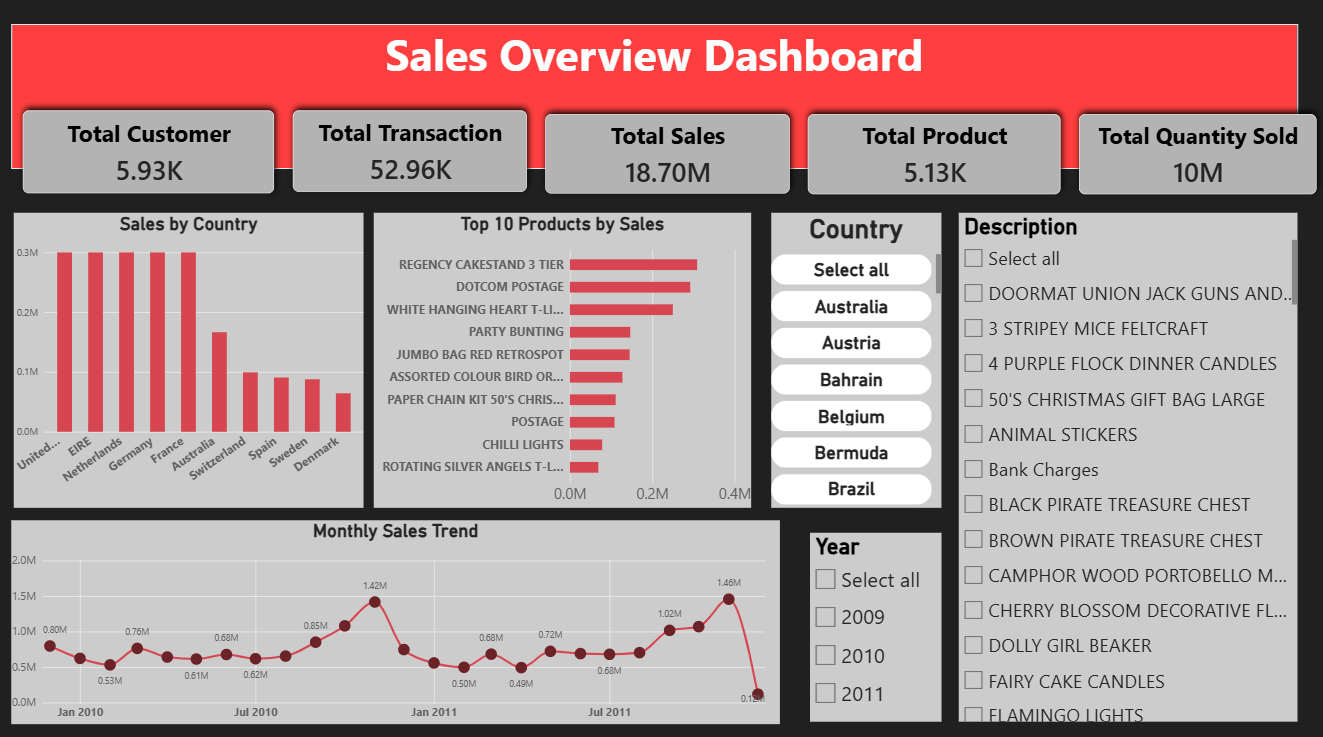

What the dashboard file says about the page in this screenshot:
{"tool":"powerbi","page":{"name":"Page 1","canvas":[1920,1080],"ordinal":0},"visuals":[{"type":"lineChart","title":"Monthly Sales Trend","fields":{"Category":["Retail_order_cleaned.YearMonth.Variation.Date Hierarchy.Year","Retail_order_cleaned.YearMonth.Variation.Date Hierarchy.Quarter","Retail_order_cleaned.YearMonth.Variation.Date Hierarchy.Month","Retail_order_cleaned.YearMonth.Variation.Date Hierarchy.Day"],"Y":["Sum(Retail_order_cleaned.Sales)"]},"box":[16.3,761.9,1112.9,295],"z":5000},{"type":"barChart","title":"Top 10 Products by Sales","fields":{"Category":["Retail_order_cleaned.Description"],"Y":["Sum(Retail_order_cleaned.Sales)"]},"box":[541.1,316.7,546.5,427.1],"z":6000},{"type":"clusteredColumnChart","title":"Sales by Country","fields":{"Category":["Retail_order_cleaned.Country"],"Y":["Sum(Retail_order_cleaned.Sales)"]},"box":[19.9,316.7,506.7,427.1],"z":7000},{"type":"shape","title":"Sales Overview Dashboard","box":[16.3,43.4,1862.1,209.9],"z":8000},{"type":"cardVisual","fields":{"Data":["Count(Retail_order_cleaned.Customer ID)"]},"box":[19.9,155.6,390.9,146.6],"z":8500},{"type":"cardVisual","fields":{"Data":["Count(Retail_order_cleaned.Invoice)"]},"box":[410.8,155.6,365.6,144.8],"z":9000},{"type":"cardVisual","fields":{"Data":["Count(Retail_order_cleaned.StockCode)"]},"box":[1156.4,161.1,392.7,143],"z":9500},{"type":"cardVisual","fields":{"Data":["Sum(Retail_order_cleaned.Quantity)"]},"box":[1549.1,161.1,371,143],"z":10000},{"type":"cardVisual","fields":{"Data":["Sum(Retail_order_cleaned.Sales)"]},"box":[776.3,161.1,380,141.2],"z":10500},{"type":"slicer","fields":{"Values":["Retail_order_cleaned.Year"]},"box":[1172.7,780,190,273.3],"z":10501},{"type":"advancedSlicerVisual","fields":{"Values":["Retail_order_cleaned.Country"]},"box":[1116.6,316.7,246.1,427.1],"z":10502},{"type":"slicer","fields":{"Values":["Retail_order_cleaned.Description"]},"box":[1388,316.7,490.4,736.5],"z":10503}]}

Visuals, with their boxes in screenshot pixels (x1, y1, x2, y2), scaled from the page's 1920x1080 canvas onto the 1323x737 screenshot:
"Monthly Sales Trend" lineChart: 11,520,778,721
"Top 10 Products by Sales" barChart: 373,216,749,508
"Sales by Country" clusteredColumnChart: 14,216,363,508
"Sales Overview Dashboard" shape: 11,30,1294,173
cardVisual - Count(Retail_order_cleaned.Customer ID): 14,106,283,206
cardVisual - Count(Retail_order_cleaned.Invoice): 283,106,535,205
cardVisual - Count(Retail_order_cleaned.StockCode): 797,110,1067,208
cardVisual - Sum(Retail_order_cleaned.Quantity): 1067,110,1322,208
cardVisual - Sum(Retail_order_cleaned.Sales): 535,110,797,206
slicer - Retail_order_cleaned.Year: 808,532,939,719
advancedSlicerVisual - Retail_order_cleaned.Country: 769,216,939,508
slicer - Retail_order_cleaned.Description: 956,216,1294,719
